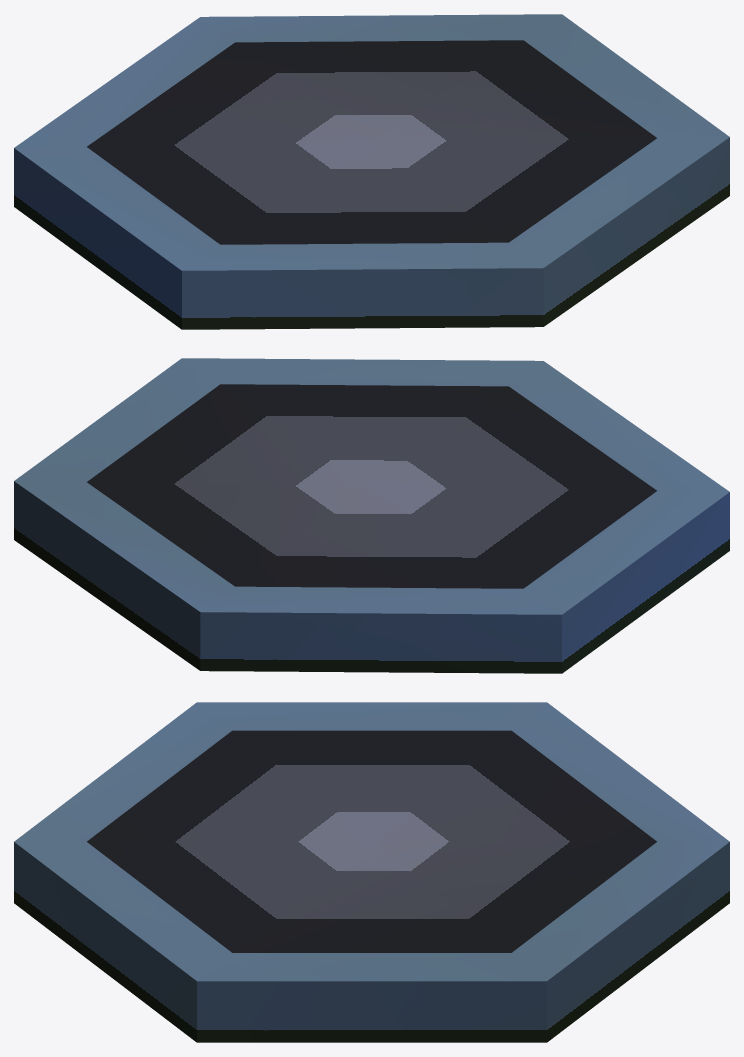
The model's file is DECO_HIVE_MOVING.glb.
3 views of the same model, one above another, from view 1: azimuth 30°, elevation 25°; view 2: azimuth 150°, elevation 25°; view 3: azimuth 270°, elevation 25° (orthographic). The views are drawn at different scales.
Parts seen in each view (by area): view 1: DECO_HIVE_MOVING; view 2: DECO_HIVE_MOVING; view 3: DECO_HIVE_MOVING.
Part boxes in pixels (x1,y1,x2,y2): DECO_HIVE_MOVING: (14,14,729,329); DECO_HIVE_MOVING: (14,358,729,673); DECO_HIVE_MOVING: (14,702,729,1042).
Size of the model in its own units: 2.09 by 0.2148 by 2.27.
Materials: 1 (1 with a texture image).
